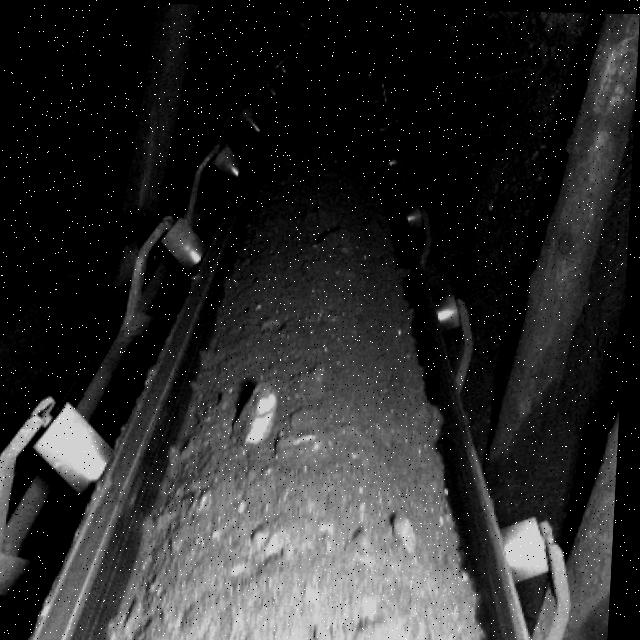large_sized_coal: (240, 380, 284, 443), (397, 514, 423, 550)
